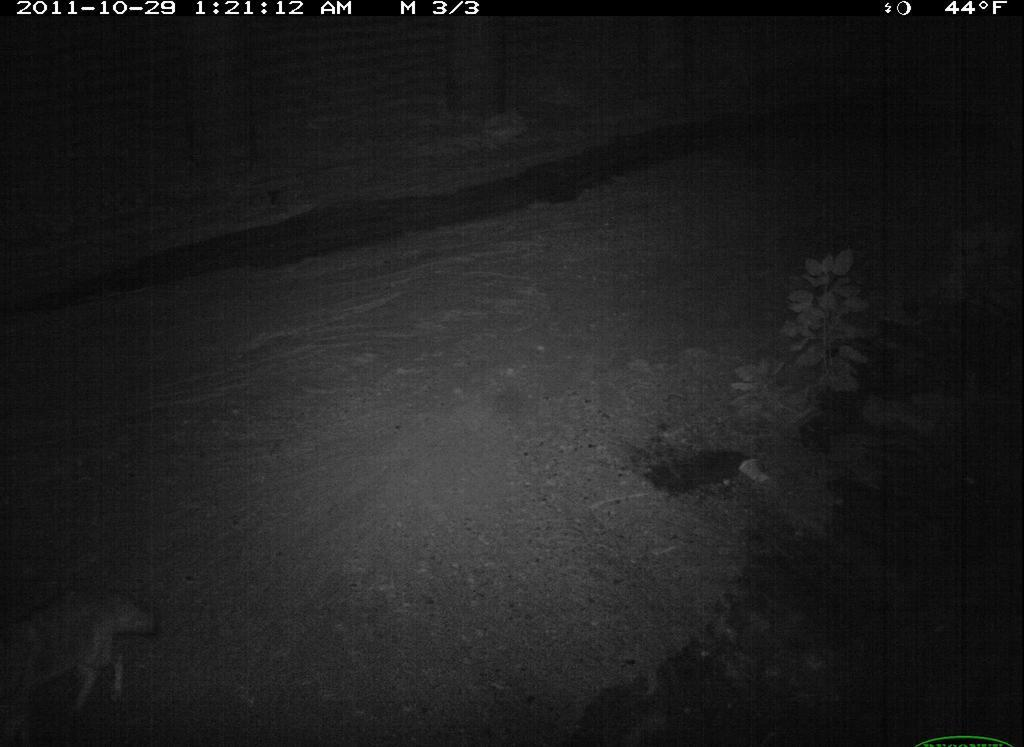coyote: (1, 577, 166, 746)
